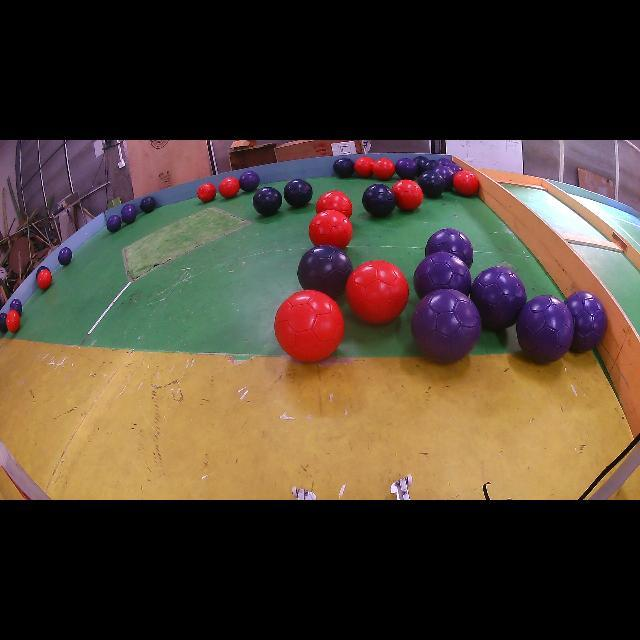B: (298, 245, 352, 298), (362, 184, 396, 218), (252, 188, 282, 216), (284, 179, 312, 208), (418, 170, 445, 198), (332, 158, 355, 178), (140, 196, 156, 214), (419, 160, 439, 173), (0, 312, 9, 334), (36, 266, 48, 279), (414, 156, 428, 166)
P: (411, 289, 481, 362), (516, 295, 574, 362), (470, 266, 526, 329), (414, 252, 471, 298), (565, 291, 606, 352), (425, 229, 474, 268), (432, 165, 454, 191), (395, 158, 418, 179), (239, 171, 260, 192), (106, 215, 121, 232), (58, 248, 72, 266), (122, 207, 136, 224), (10, 299, 22, 316), (448, 164, 462, 174), (438, 158, 452, 165), (121, 204, 135, 211)
R: (275, 290, 345, 361), (345, 260, 409, 324), (309, 210, 352, 249), (316, 190, 352, 219), (391, 180, 424, 211), (452, 170, 479, 195), (372, 158, 395, 180), (219, 178, 240, 198), (355, 156, 374, 178), (198, 182, 216, 202), (6, 310, 20, 332), (38, 270, 52, 290)
